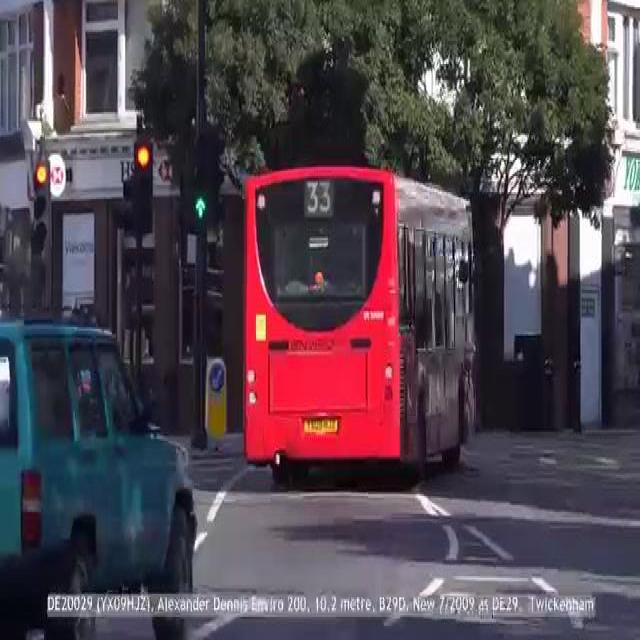motorcycle: (232, 165, 484, 486)
